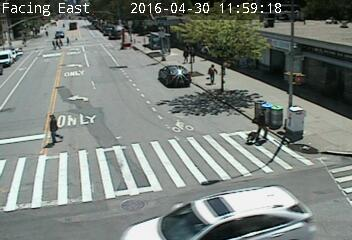neg: (281, 113, 308, 149), (165, 110, 188, 140), (90, 138, 110, 164), (63, 58, 79, 80), (211, 189, 226, 209), (321, 99, 335, 118), (113, 57, 126, 76), (245, 44, 258, 60), (139, 41, 151, 57), (22, 53, 33, 68), (119, 37, 129, 51), (88, 28, 98, 41), (289, 72, 298, 85), (34, 50, 42, 61), (50, 56, 57, 66), (78, 39, 84, 48), (71, 92, 77, 101), (71, 22, 77, 29), (22, 34, 26, 39)
pos: (247, 106, 275, 144), (40, 110, 66, 145), (178, 46, 194, 68), (205, 63, 220, 84), (53, 36, 61, 48), (63, 33, 71, 44), (49, 39, 56, 49), (43, 29, 49, 37), (57, 37, 62, 44)
